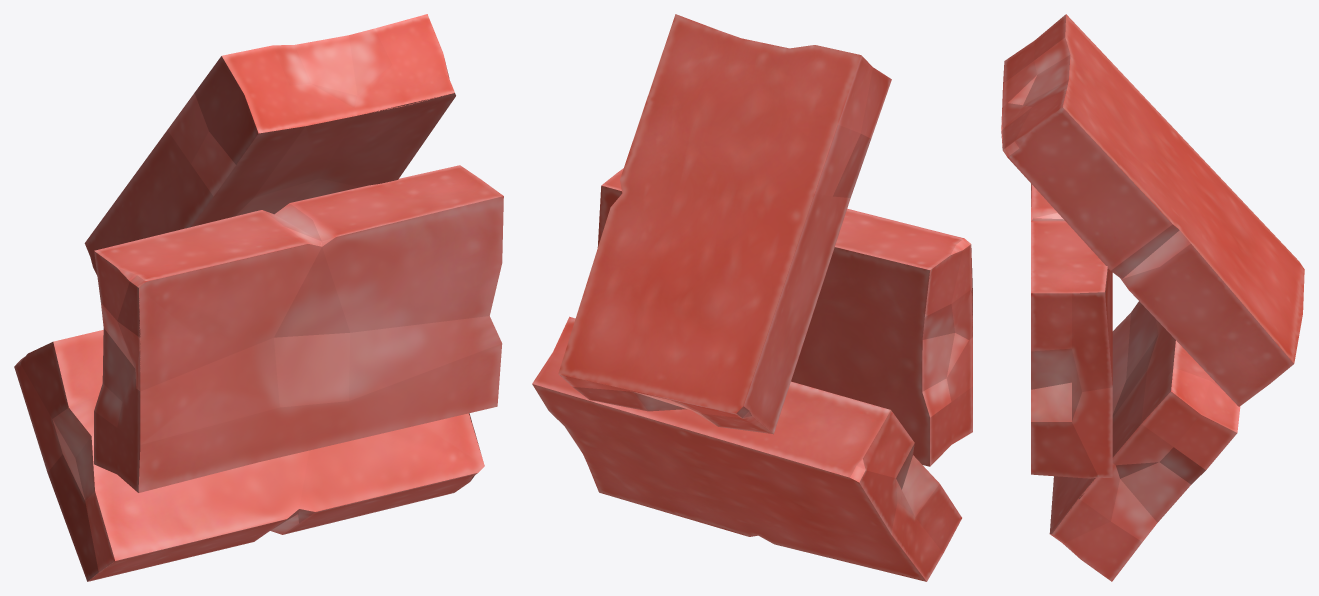
Rendered from Ziegelsteine.fbx.
3 renders of one model, left to right at view 1: azimuth 30°, elevation 25°; view 2: azimuth 150°, elevation 25°; view 3: azimuth 270°, elevation 25°, orthographic. The views are drawn at different scales.
Parts seen in each view (by area): view 1: Würfel; view 2: Würfel; view 3: Würfel.
Part boxes in pixels (x1,y1,x2,y2): Würfel: [14, 14, 503, 581]; Würfel: [532, 14, 972, 581]; Würfel: [1001, 14, 1304, 581].
Bounding box in the file's own units: 922 × 1247 × 744.
Materials: 1 (1 with a texture image).
